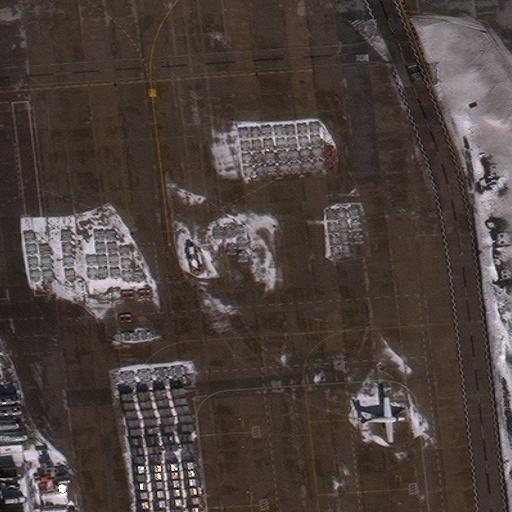Medium Civil Transport: (361, 397, 405, 442)
